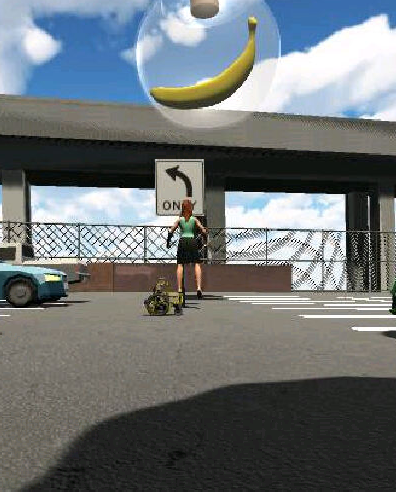arrow_left: (162, 165, 198, 198)
